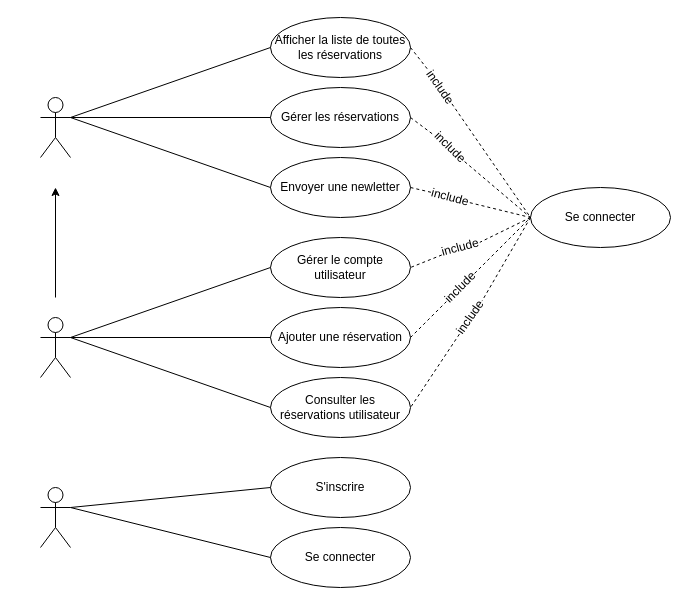
Some shapes in this 688 by 605 pixel diagram are drawn without their labels. Each missing label, with the box of its shape:
Administrateur: (40, 96, 70, 158)
Utilisateur: (40, 316, 70, 378)
Visiteur: (40, 486, 70, 548)
